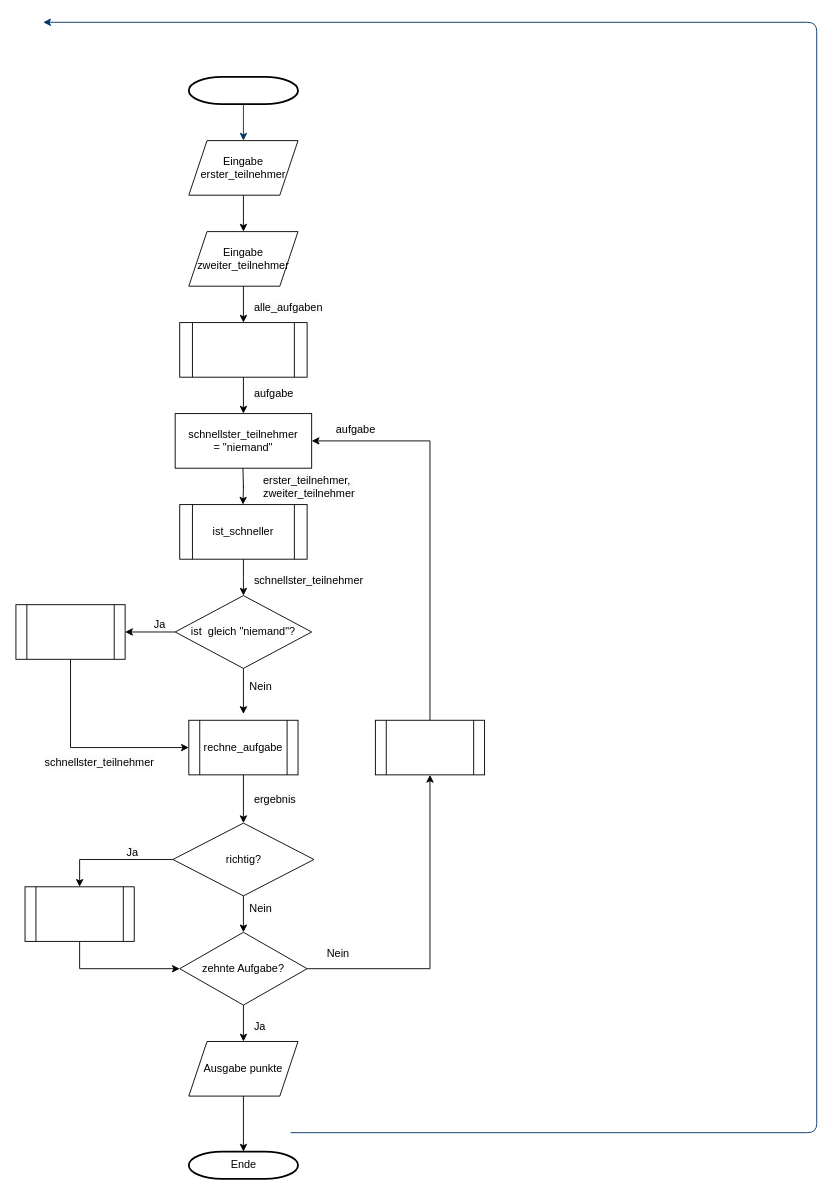
This 840x1196 diagram has some shape labels left out. The shapes that lost their labels are listed below. From the top down, each one's box as (x1, y1, x2, y2) in pixels, then its label:
(187, 76, 298, 105): Start
(179, 322, 307, 377): erste_aufgabe
(15, 604, 125, 659): zufällig
(374, 719, 485, 775): nächste_aufgabe
(24, 886, 134, 941): notiere_punkt
